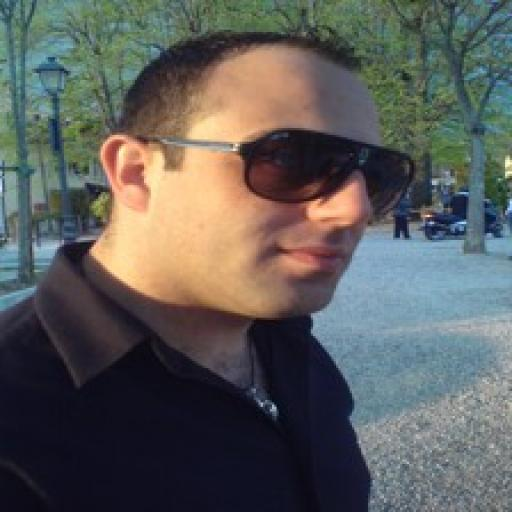human: (0, 15, 414, 512)
